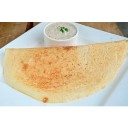dosa: (3, 44, 128, 104)
